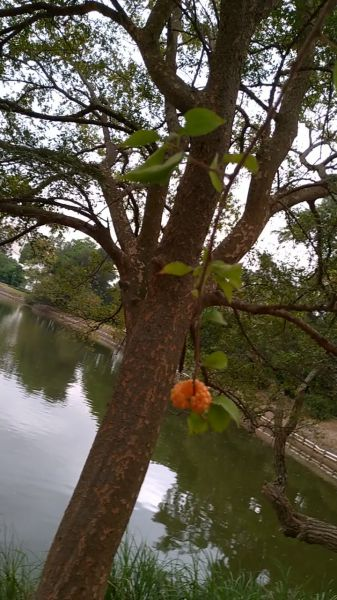eggs: (166, 374, 213, 417)
